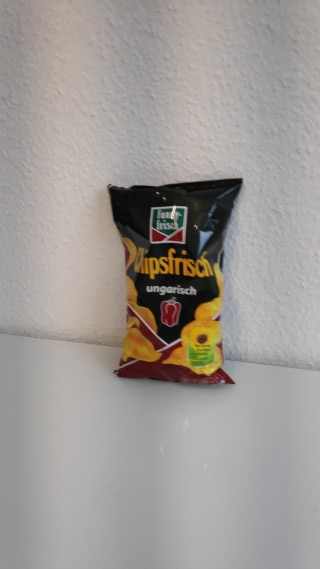chipsfrisch: (105, 174, 243, 386)
